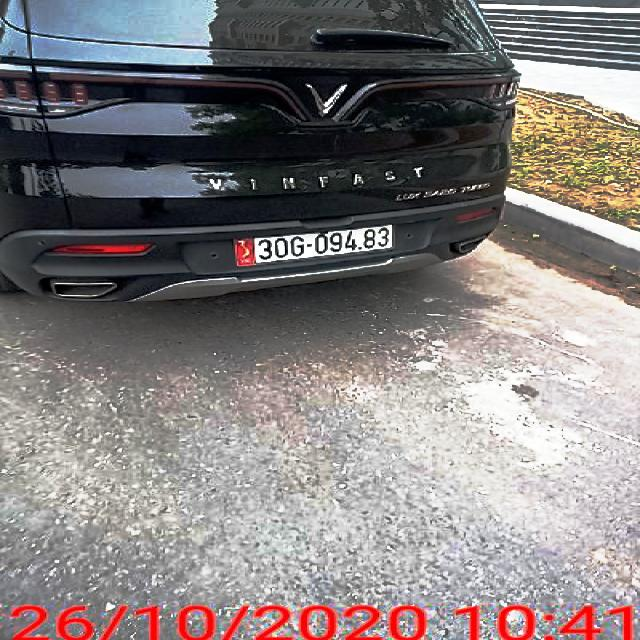license_plate: (237, 225, 396, 267)
